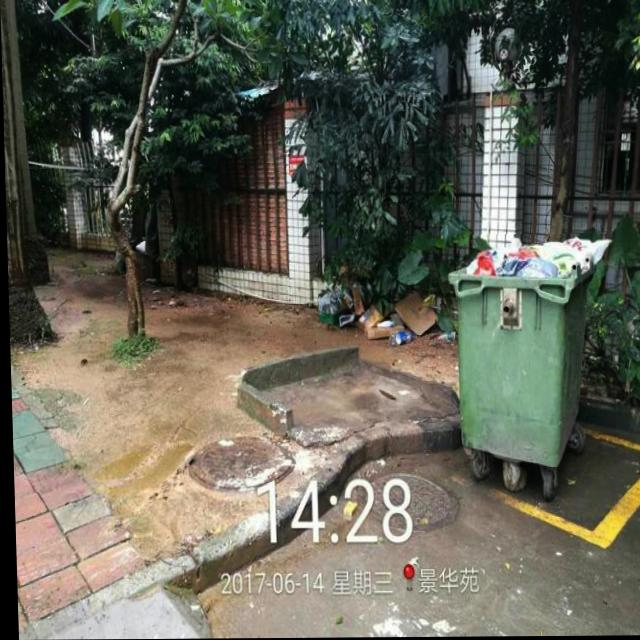garbage: (313, 282, 453, 344)
overflow: (445, 234, 614, 468)
